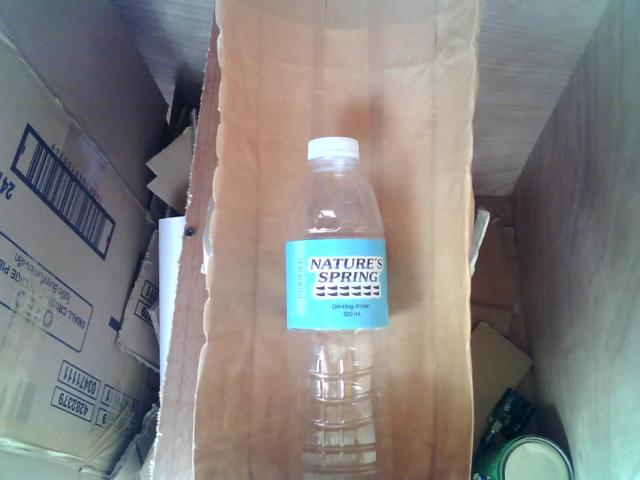small_bottle: (265, 128, 417, 480)
